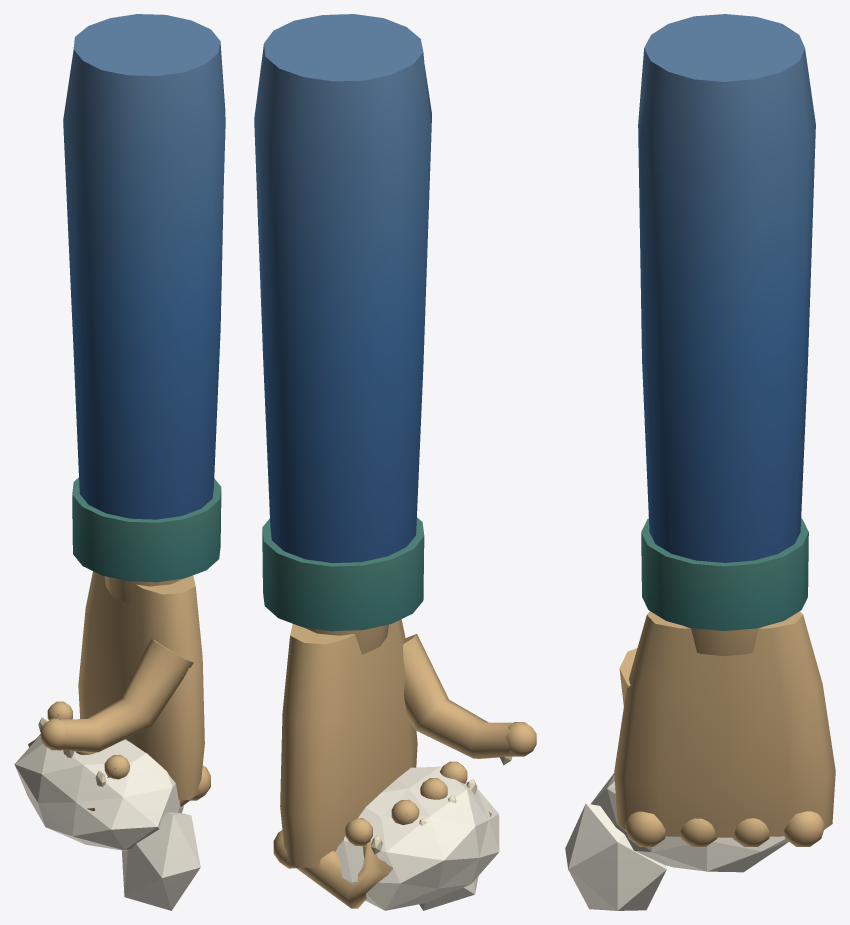
Rendered from merchant_lio_fore_l.glb.
3 renders of one model, left to right at view 1: azimuth 30°, elevation 25°; view 2: azimuth 150°, elevation 25°; view 3: azimuth 270°, elevation 25°, orthographic. The views are drawn at different scales.
Visible parts, largest first — view 1: merchant_lio_fore_l; view 2: merchant_lio_fore_l; view 3: merchant_lio_fore_l.
Boxes of the visible parts, x1,y1,x2,y2 form: merchant_lio_fore_l: [14, 14, 225, 910]; merchant_lio_fore_l: [254, 14, 536, 910]; merchant_lio_fore_l: [565, 14, 835, 910].
Size of the model in its own units: 0.4113 by 1.49 by 0.4153.
Materials: 1 (1 with a texture image).
